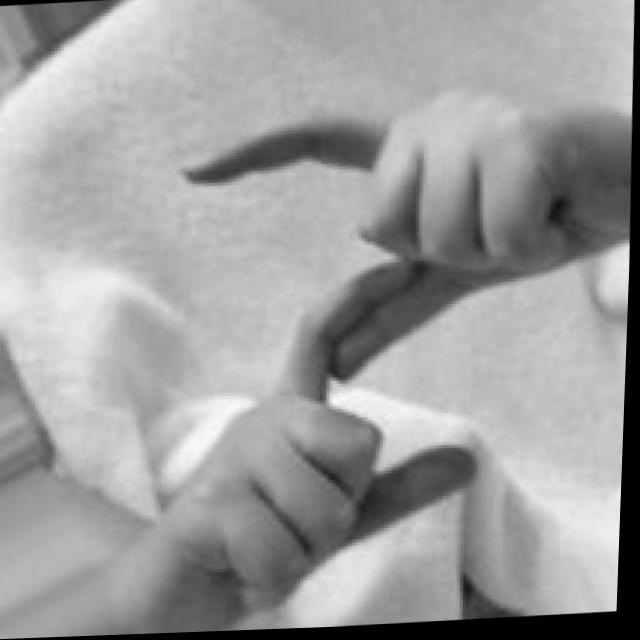S: (161, 79, 636, 633)
